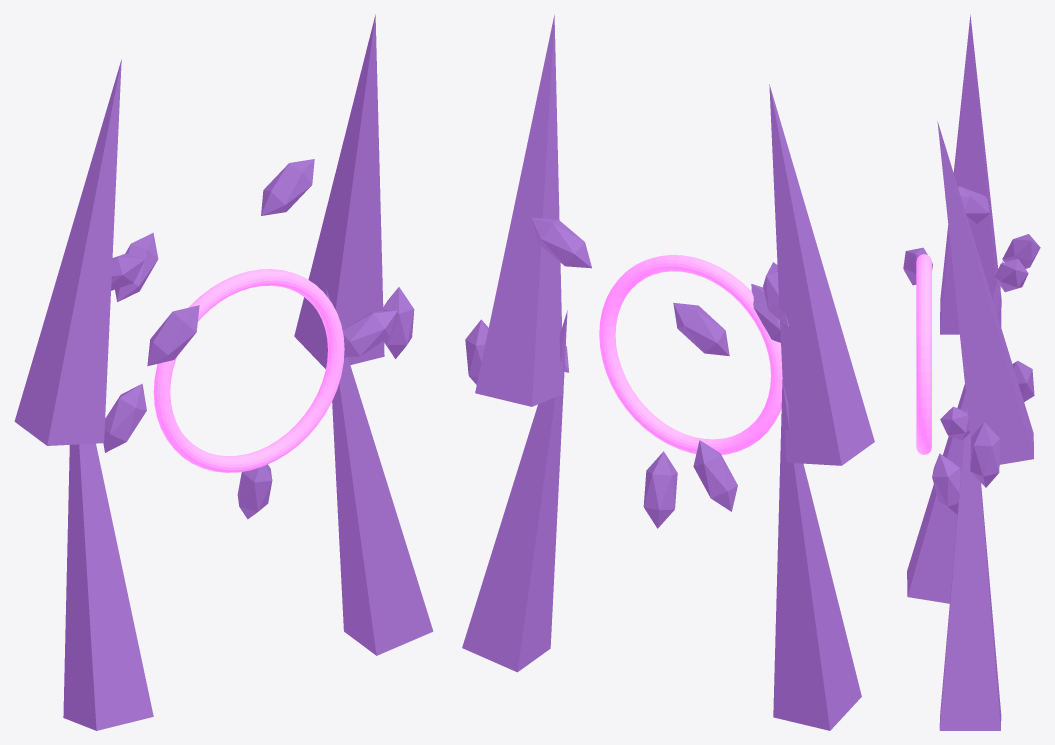
Rendered from void_monoliths.glb.
The picture shows the model from 3 angles, left to right: view 1: azimuth 30°, elevation 25°; view 2: azimuth 150°, elevation 25°; view 3: azimuth 270°, elevation 25°; orthographic projection. The views are drawn at different scales.
Parts seen in each view (by area): view 1: Cone.001, Cone.002, Cone.003, Cone, Torus, Icosphere, Icosphere.003, Icosphere.002, Icosphere.005, Icosphere.004, Icosphere.007, Icosphere.006 (+1 smaller); view 2: Cone.001, Cone, Cone.002, Cone.003, Torus, Icosphere.004, Icosphere.006, Icosphere.003, Icosphere.002, Icosphere.007, Icosphere, Icosphere.001; view 3: Cone.003, Cone, Cone.001, Cone.002, Torus, Icosphere.007, Icosphere.004, Icosphere.006, Icosphere.003, Icosphere.001, Icosphere.005, Icosphere.002 (+1 smaller).
Part boxes in pixels (box(x1,y1,x2,y2)): Cone.001: box(14, 59, 121, 445); Cone.002: box(63, 443, 153, 730); Cone.003: box(326, 289, 433, 655); Cone: box(294, 14, 384, 368); Torus: box(153, 269, 344, 472); Icosphere: box(147, 305, 199, 366); Icosphere.003: box(261, 159, 314, 215); Icosphere.002: box(103, 383, 146, 452); Icosphere.005: box(342, 310, 397, 357); Icosphere.004: box(237, 464, 272, 519); Icosphere.007: box(383, 287, 414, 358); Icosphere.006: box(115, 232, 158, 301); Cone.001: box(769, 84, 874, 465); Cone: box(475, 14, 563, 406); Cone.002: box(773, 380, 861, 730); Cone.003: box(462, 310, 567, 672); Torus: box(599, 255, 782, 454); Icosphere.004: box(643, 451, 677, 528); Icosphere.006: box(673, 302, 729, 356); Icosphere.003: box(531, 217, 591, 268); Icosphere.002: box(693, 440, 737, 511); Icosphere.007: box(465, 319, 488, 384); Icosphere: box(751, 284, 780, 342); Icosphere.001: box(763, 262, 789, 326); Cone.003: box(939, 405, 1001, 730); Cone: box(937, 121, 1033, 464); Cone.001: box(940, 14, 1001, 334); Cone.002: box(907, 260, 1003, 603); Torus: box(916, 254, 931, 454); Icosphere.007: box(970, 422, 999, 487); Icosphere.004: box(932, 453, 961, 514); Icosphere.006: box(1002, 234, 1040, 268); Icosphere.003: box(994, 258, 1028, 292); Icosphere.001: box(958, 186, 991, 223); Icosphere.005: box(940, 406, 969, 440); Icosphere.002: box(1012, 361, 1034, 401).
Size of the model in its own units: 13.36 by 21.18 by 4.44.
